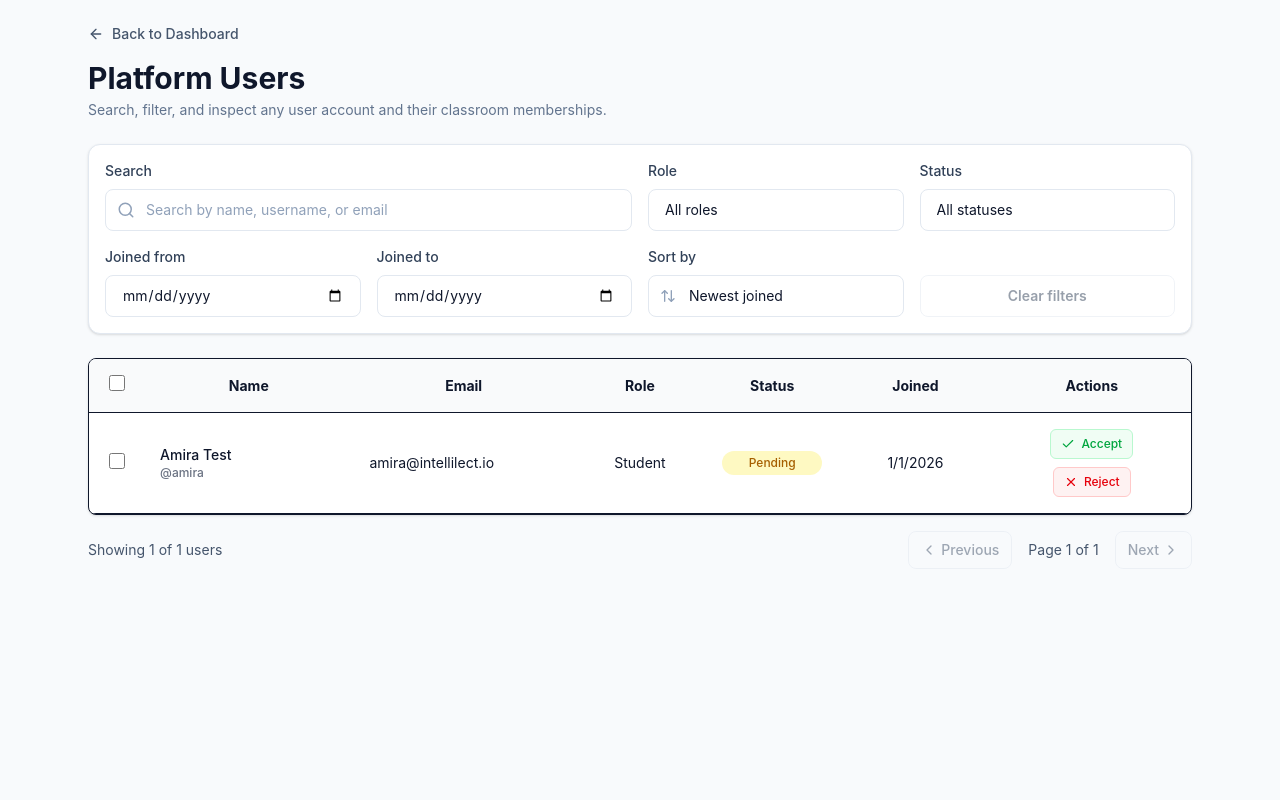
Scenario: UsersDirectoryPage bulk status changes › selecting a row does not open the user detail page
Expected: the text "Amira Test" is shown, [160,446,232,463]
Click the checkbox named "Select Amira Test": [116, 460] box [108,452,124,468]
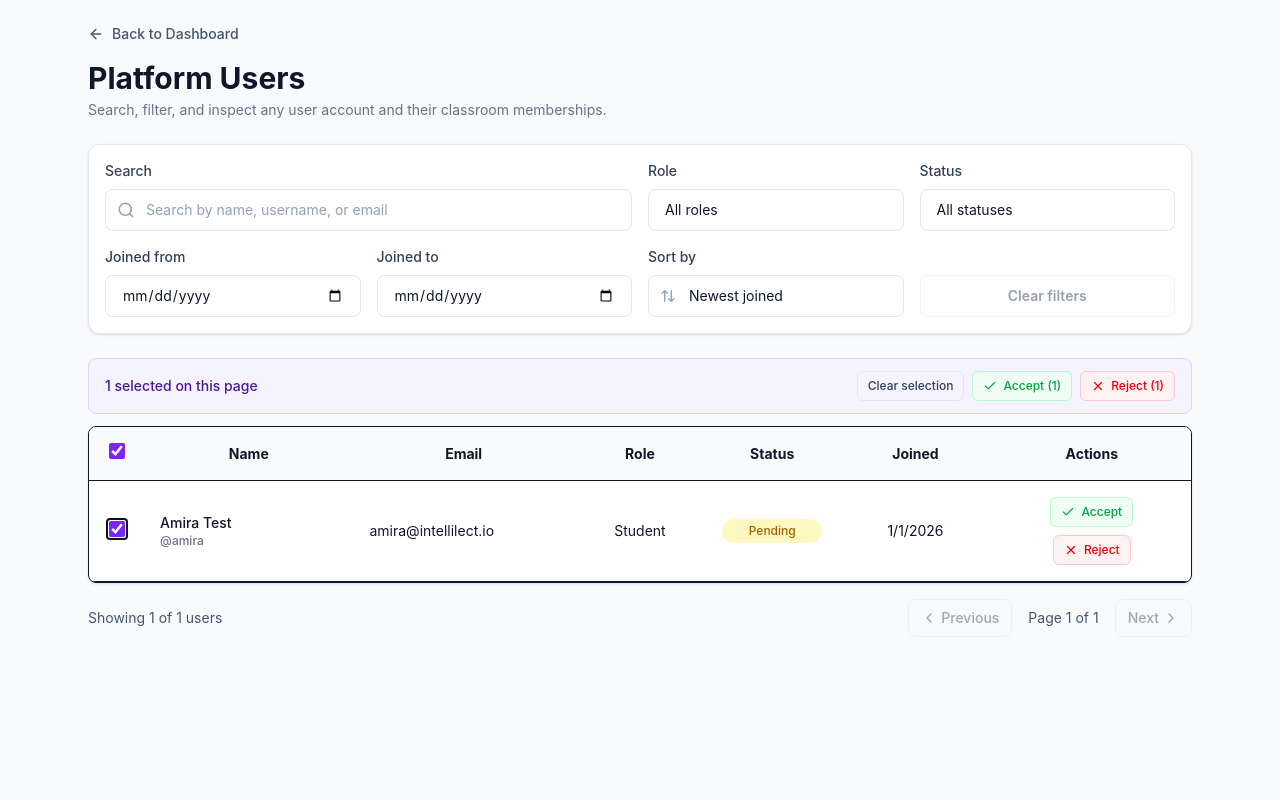
Expected: the text "Amira Test" is shown, [160,514,232,531]
Expected: the text "1 selected on this page" is shown, [105,376,258,396]
